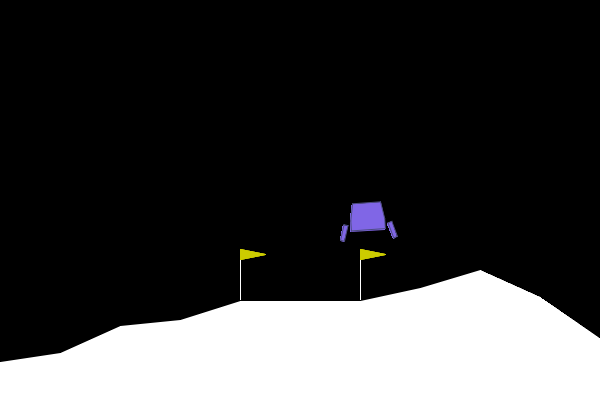lander: (336, 199, 399, 243)
